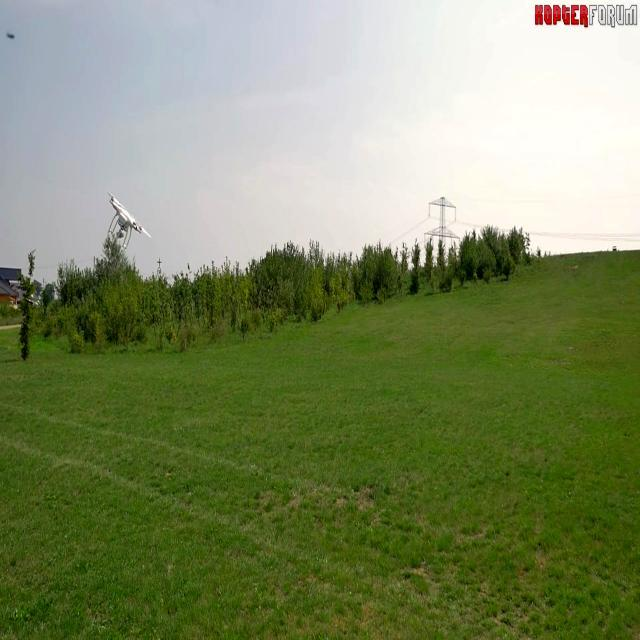drone: (106, 192, 146, 258)
